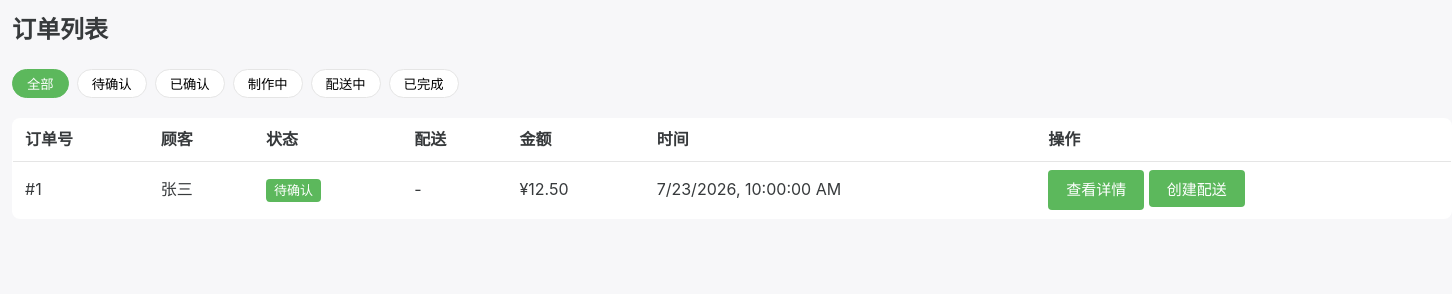
Test: OrderListPage › 创建配送失败：显示错误且不清空列表
Click the button "创建配送" at [1197, 188], box [1149, 170, 1245, 207]
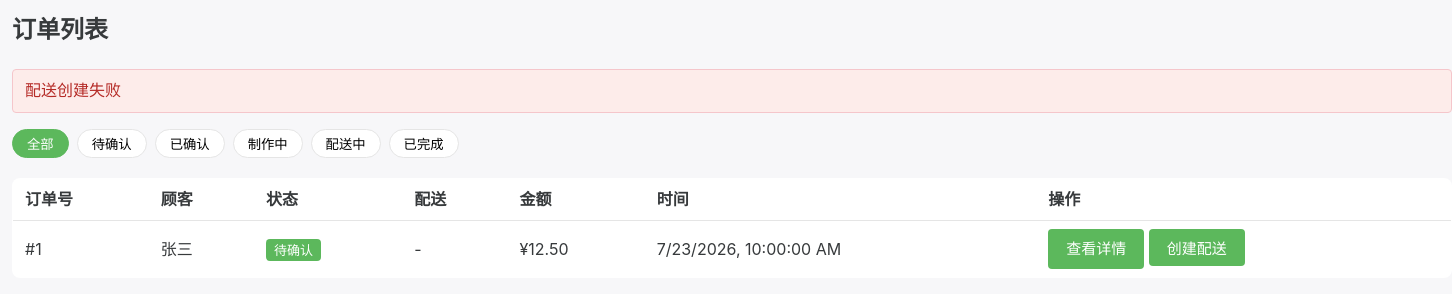
Expected: the text "#1" is shown, [12, 221, 149, 278]
Expected: the text "配送创建失败" is shown, [12, 69, 1451, 113]
